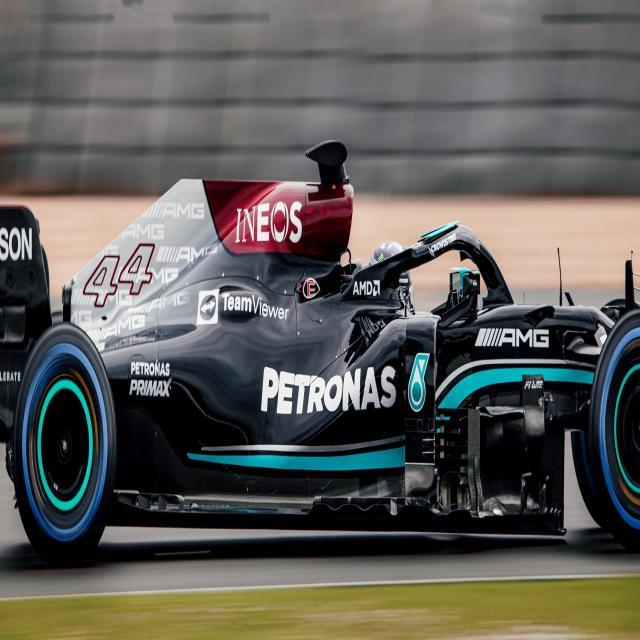TeamViewer: (198, 290, 288, 326)
